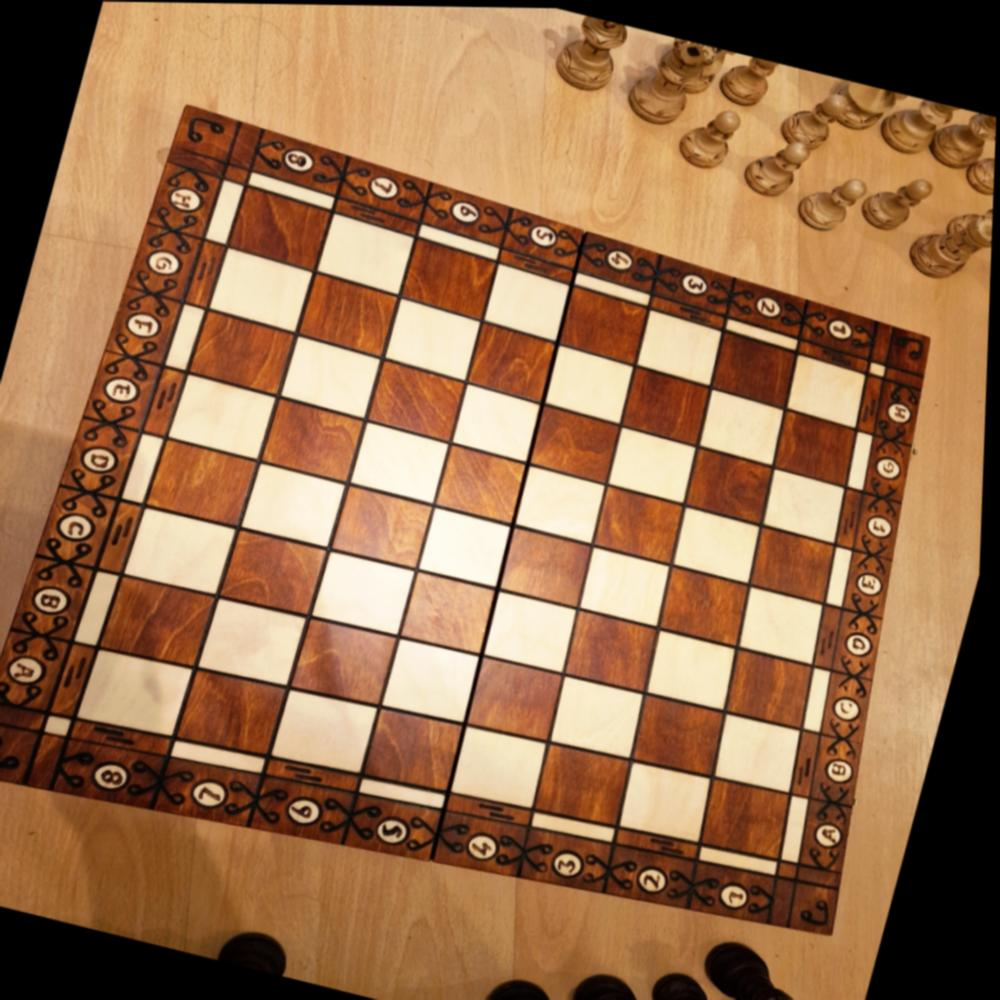A: (0, 625, 72, 716), (809, 796, 860, 869)
B: (17, 552, 102, 647), (818, 736, 869, 805)
C: (37, 483, 120, 570), (828, 669, 883, 743)
D: (63, 415, 141, 499), (837, 607, 888, 677)
E: (89, 351, 161, 430), (848, 550, 900, 615)
F: (104, 286, 180, 366), (857, 491, 912, 556)
G: (135, 227, 196, 301), (865, 433, 920, 499)
H: (156, 162, 220, 236), (876, 377, 930, 441)
chessboard-corners: (0, 105, 937, 933)
chessfield: (87, 643, 196, 739), (275, 685, 385, 780), (183, 665, 293, 759), (108, 575, 215, 671), (205, 596, 314, 689), (361, 702, 468, 796), (150, 439, 260, 529), (470, 650, 575, 743), (279, 332, 391, 419), (298, 617, 407, 706), (190, 309, 299, 397), (133, 508, 240, 595), (170, 375, 280, 459), (335, 483, 443, 568), (483, 586, 585, 675), (579, 542, 681, 630), (555, 675, 657, 763), (316, 547, 419, 633), (228, 527, 331, 613), (457, 722, 556, 811), (246, 461, 350, 545), (351, 421, 457, 503), (387, 636, 489, 721), (636, 693, 738, 778), (371, 359, 475, 442), (231, 187, 333, 270), (211, 249, 315, 330), (403, 236, 503, 320), (264, 399, 365, 482), (539, 740, 637, 825), (559, 282, 659, 365), (300, 273, 402, 353), (566, 606, 664, 689), (661, 565, 761, 646), (314, 213, 417, 291), (740, 583, 838, 664), (529, 401, 627, 482), (624, 758, 716, 843), (388, 298, 484, 379), (439, 443, 533, 525), (609, 423, 705, 503), (505, 527, 601, 607), (687, 446, 782, 526), (425, 507, 520, 587), (408, 571, 501, 652), (636, 305, 729, 385), (713, 329, 807, 408), (483, 262, 578, 340), (734, 647, 825, 727), (722, 711, 813, 791), (652, 627, 743, 706), (706, 776, 794, 857), (698, 390, 791, 466), (545, 346, 638, 421), (764, 467, 856, 542), (519, 467, 611, 542), (775, 410, 868, 484), (601, 484, 691, 560), (454, 384, 544, 460), (784, 352, 877, 425), (754, 525, 842, 600), (624, 369, 714, 441), (679, 504, 764, 580), (473, 325, 555, 400)
innerChessboard: (82, 187, 871, 858)
